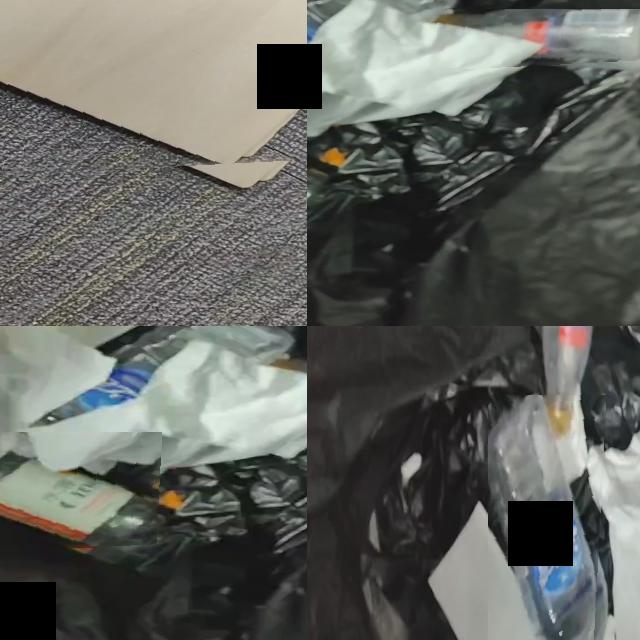bottle: (488, 395, 599, 640), (47, 326, 293, 424), (0, 456, 159, 550), (437, 9, 640, 64), (542, 326, 593, 442)
carton: (0, 0, 307, 169)
paper: (29, 339, 307, 479), (307, 0, 548, 136), (429, 502, 554, 640), (0, 326, 121, 465), (590, 430, 640, 640), (558, 392, 591, 488), (604, 617, 616, 640)
